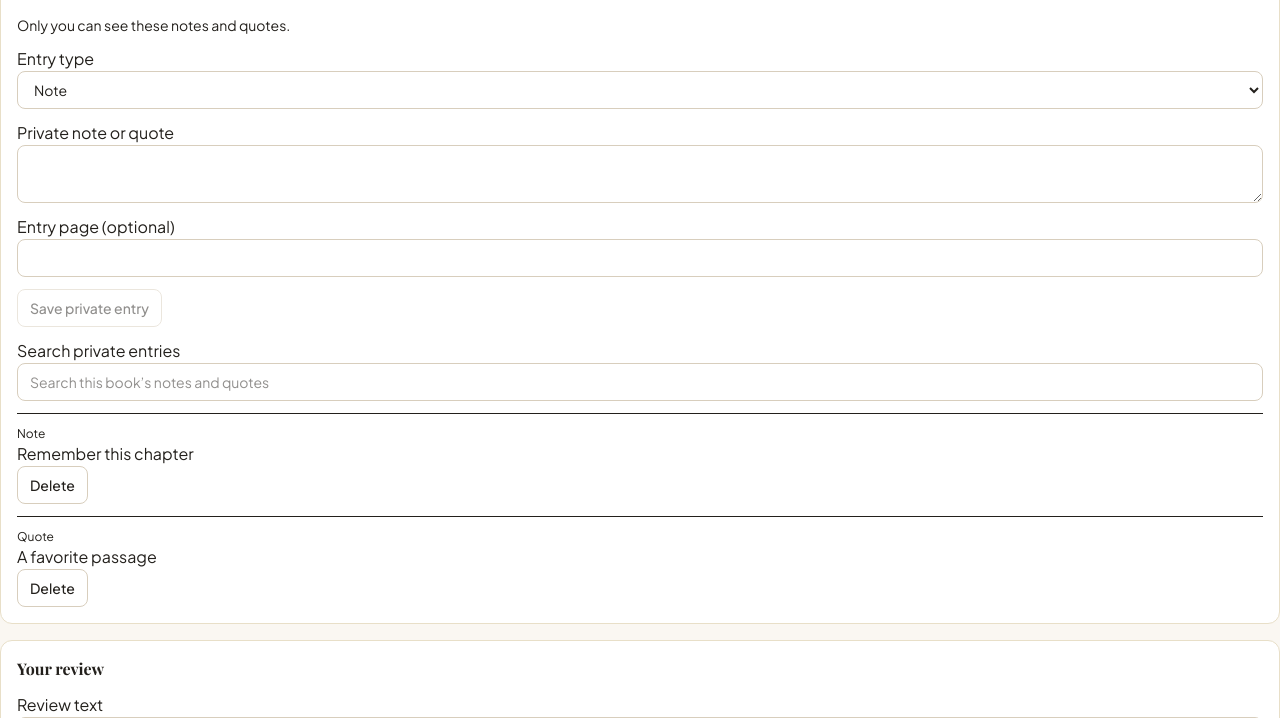
Scenario: reader tools › searches private notes and quotes without sending their text elsewhere
This screenshot has width=1280, height=718.
(page scrolled)
Step 1. Type "PASSAGE" into the search field labelled "Search private entries" → (640, 382), box top-left (17, 363), bottom-right (1263, 401)
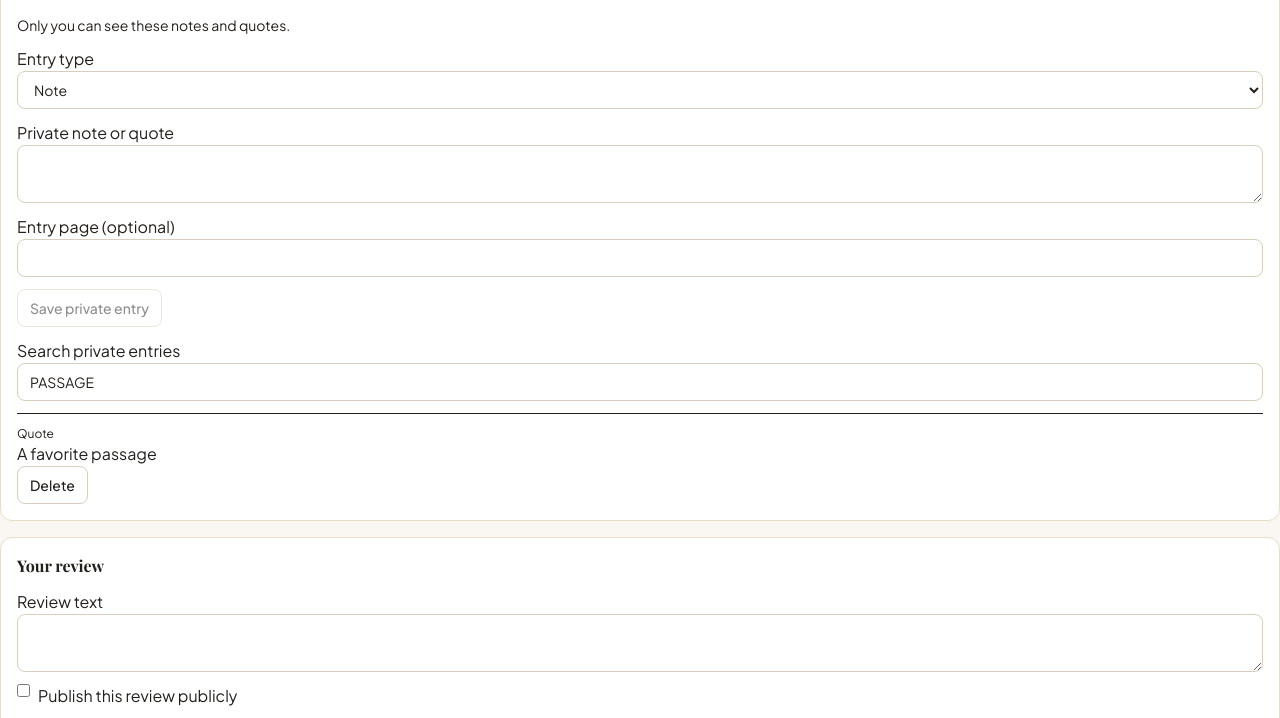
Expected: the text "A favorite passage" is shown, top-left (17, 443), bottom-right (157, 464)
Result: the text "Remember this chapter" is gone
